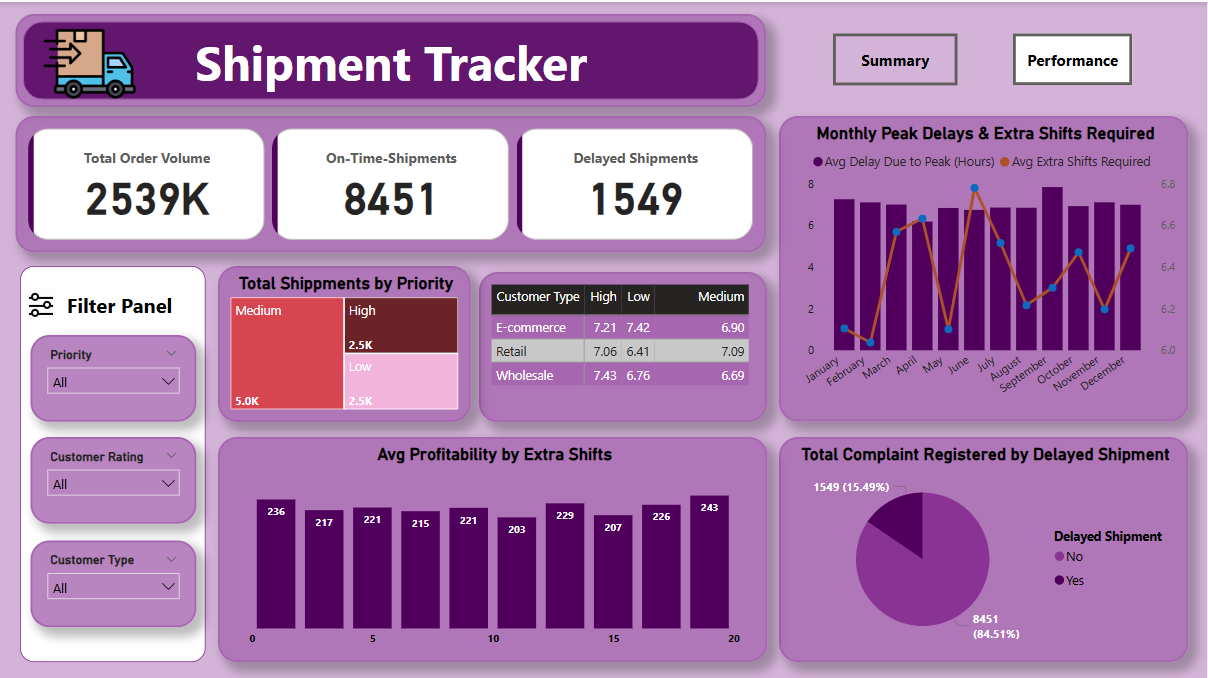

What the dashboard file says about the page in this screenshot:
{"tool":"powerbi","page":{"name":"Page 2","canvas":[1280,720],"ordinal":1},"visuals":[{"type":"pivotTable","fields":{"Columns":["Shipment details.Priority"],"Rows":["Shipment details.Customer Type"],"Values":["Avg(Shipment details.Delay Due to Peak (Hours))"]},"box":[509.1,285.9,305.2,159.3],"z":0},{"type":"lineClusteredColumnComboChart","title":"Monthly Peak Delays & Extra Shifts Required","fields":{"Y":["Avg(Shipment details.Delay Due to Peak (Hours))"],"Y2":["Avg(Shipment details.Extra Shifts Required)"],"Category":["Shipment details.Shipment Date.Variation.Date Hierarchy.Month"]},"box":[826.7,120.7,434.1,324.3],"z":1000},{"type":"pieChart","title":"Total Complaint Registered by Delayed Shipment","fields":{"Category":["Shipment details.Delayed Shipment"],"Y":["CountNonNull(Shipment details.Complaint Registered)"]},"box":[826.4,460.9,434.3,238.9],"z":2000},{"type":"treemap","fields":{"Group":["Shipment details.Priority"],"Values":["Shipment details.Total Shippments"]},"box":[231.6,279.9,267.8,165.3],"z":3000},{"type":"shape","box":[22.9,279.9,196.6,419.8],"z":4000},{"type":"slicer","fields":{"Values":["Shipment details.Customer Type"]},"box":[33.8,570.6,176.1,91.7],"z":5000},{"type":"textbox","box":[67.6,300.4,143.6,53.1],"z":6000},{"type":"slicer","fields":{"Values":["Shipment details.Priority"]},"box":[33.8,353.5,176.1,91.7],"z":7000},{"type":"slicer","fields":{"Values":["Shipment details.Customer Rating"]},"box":[33.8,460.9,176.1,91.7],"z":8000},{"type":"image","box":[22.9,289.5,44.6,63.9],"z":9000},{"type":"shape","box":[18.1,13.3,796.3,98.9],"z":10000},{"type":"image","box":[37.6,9.4,115.5,111.5],"z":11000},{"type":"cardVisual","fields":{"Data":["Shipment details.Total Order Volume","Shipment details.On-Time-Shipments","Shipment details.Delayed Shipments"]},"box":[18.1,120.6,796.3,144.8],"z":12000},{"type":"clusteredColumnChart","title":"Avg Profitability by Extra Shifts ","fields":{"Y":["Avg(Shipment details.Profitability ($))"],"Category":["Shipment details.Extra Shifts Required"]},"box":[231.6,460.9,582.7,238.9],"z":13000},{"type":"actionButton","title":"Summary","box":[884.9,33,132.2,55.1],"z":14000},{"type":"actionButton","box":[1075.4,34.1,126.8,54.9],"z":15000}]}

Visuals, with their boxes in screenshot pixels (x1, y1, x2, y2), scaled from the page's 1280x720 canvas onto the 1208x678 screenshot:
pivotTable - Shipment details.Priority x Shipment details.Customer Type: (x1=480, y1=269, x2=768, y2=419)
"Monthly Peak Delays & Extra Shifts Required" lineClusteredColumnComboChart: (x1=780, y1=114, x2=1190, y2=419)
"Total Complaint Registered by Delayed Shipment" pieChart: (x1=780, y1=434, x2=1190, y2=659)
treemap - Shipment details.Priority x Shipment details.Total Shippments: (x1=219, y1=264, x2=471, y2=419)
shape: (x1=22, y1=264, x2=207, y2=659)
slicer - Shipment details.Customer Type: (x1=32, y1=537, x2=198, y2=624)
textbox: (x1=64, y1=283, x2=199, y2=333)
slicer - Shipment details.Priority: (x1=32, y1=333, x2=198, y2=419)
slicer - Shipment details.Customer Rating: (x1=32, y1=434, x2=198, y2=520)
image: (x1=22, y1=273, x2=64, y2=333)
shape: (x1=17, y1=13, x2=769, y2=106)
image: (x1=35, y1=9, x2=144, y2=114)
cardVisual - Shipment details.Total Order Volume x Shipment details.On-Time-Shipments: (x1=17, y1=114, x2=769, y2=250)
"Avg Profitability by Extra Shifts " clusteredColumnChart: (x1=219, y1=434, x2=768, y2=659)
"Summary" actionButton: (x1=835, y1=31, x2=960, y2=83)
actionButton: (x1=1015, y1=32, x2=1135, y2=84)
